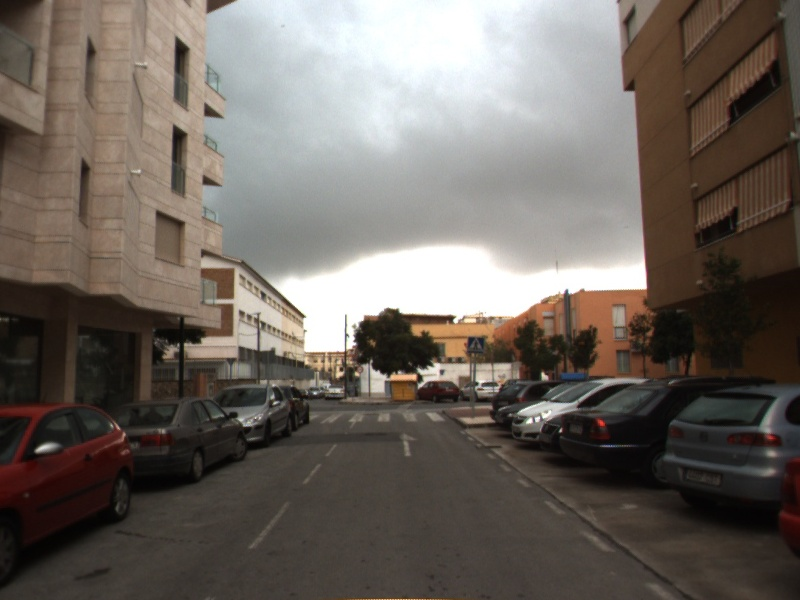STRAIGHT: (395, 429, 422, 459)
